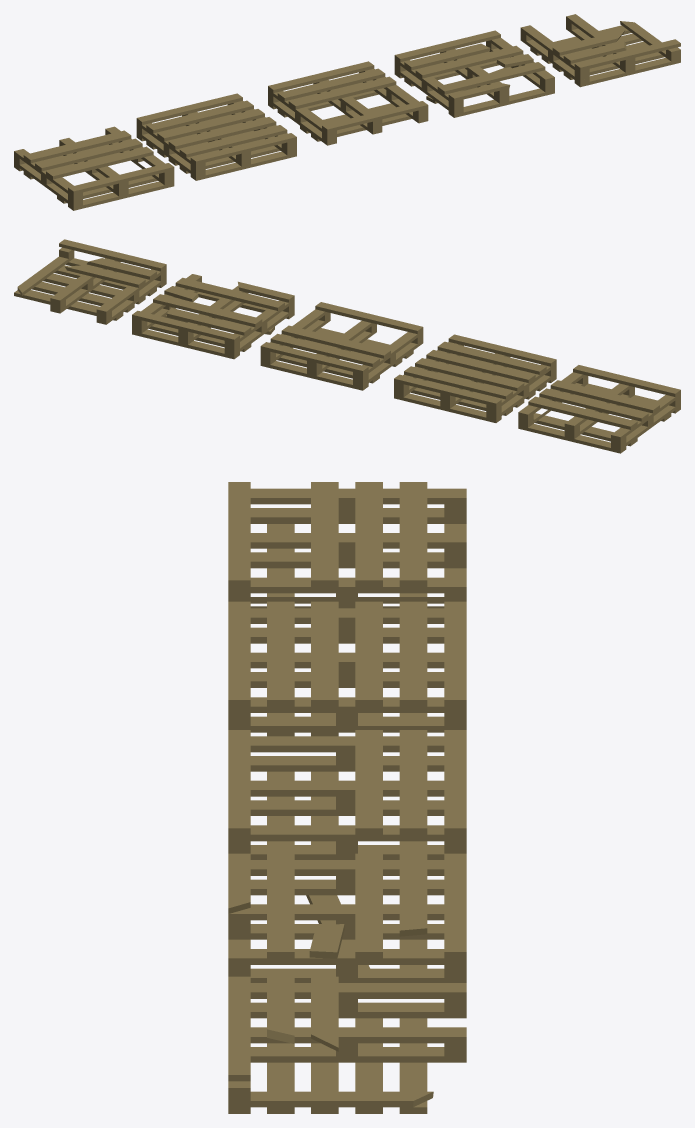
The model's file is wooden_pallets.fbx.
3 renders of one model, top to bottom at view 1: azimuth 30°, elevation 25°; view 2: azimuth 150°, elevation 25°; view 3: azimuth 270°, elevation 25°, orthographic. The views are drawn at different scales.
Visible parts, largest first — view 1: wooden_pallet_01, wooden_pallet_04, wooden_pallet_03, wooden_pallet_02, wooden_pallet_05; view 2: wooden_pallet_01, wooden_pallet_04, wooden_pallet_02, wooden_pallet_03, wooden_pallet_05; view 3: wooden_pallet_01, wooden_pallet_04, wooden_pallet_03, wooden_pallet_05, wooden_pallet_02.
Part boxes in pixels (x1,y1,x2,y2): wooden_pallet_01: (136,93,296,180); wooden_pallet_04: (394,30,554,117); wooden_pallet_03: (268,61,428,145); wooden_pallet_02: (14,126,174,210); wooden_pallet_05: (520,14,680,87); wooden_pallet_01: (394,334,556,422); wooden_pallet_04: (132,274,294,359); wooden_pallet_02: (518,365,680,453); wooden_pallet_03: (260,302,423,390); wooden_pallet_05: (14,239,166,324); wooden_pallet_01: (228,601,466,736); wooden_pallet_04: (228,853,466,982); wooden_pallet_03: (228,730,466,859); wooden_pallet_05: (228,976,466,1113); wooden_pallet_02: (228,482,466,608).
Size of the model in its own units: 12.67 by 0.3875 by 2.15.
